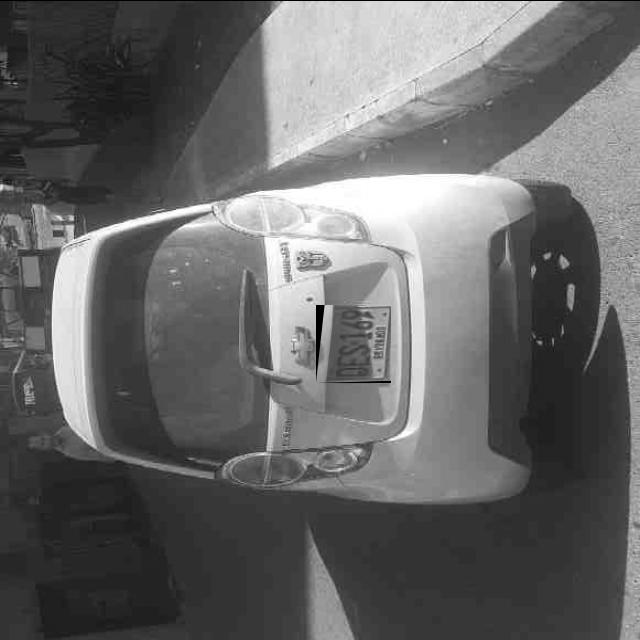plate: (316, 304, 391, 382)
